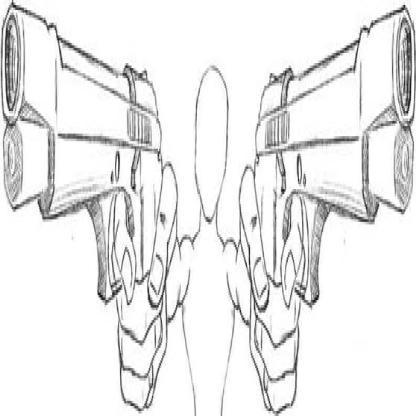pistol: (1, 5, 169, 413), (249, 20, 398, 370)
